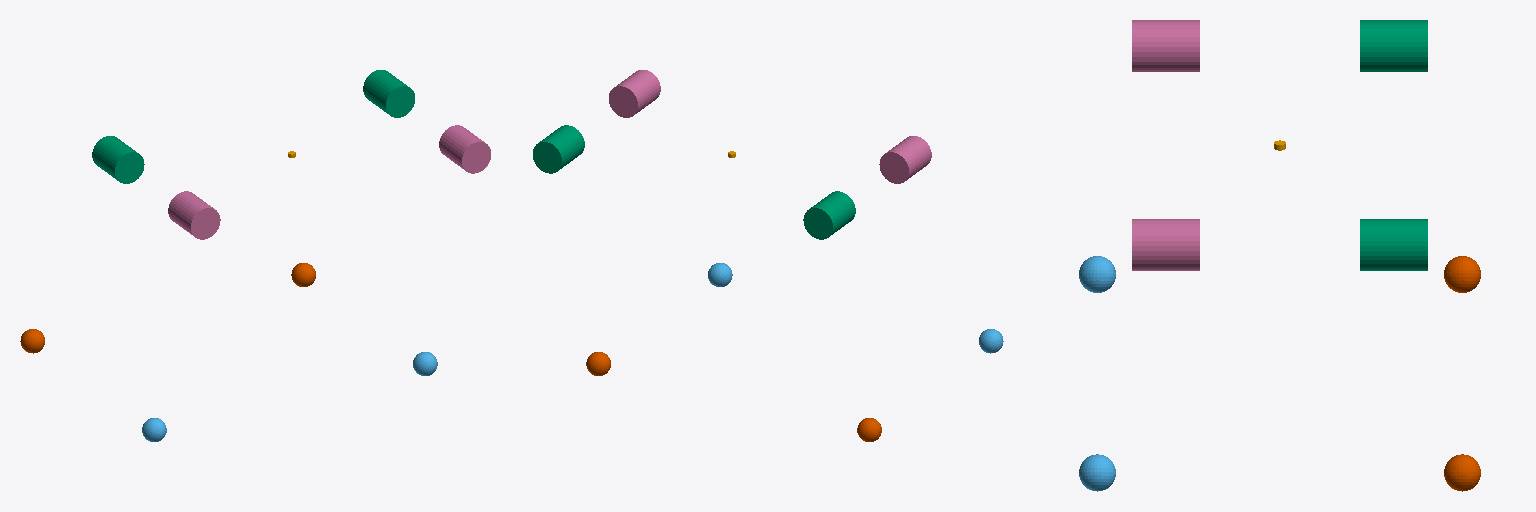
URDF robot description (hyq):
<?xml version="1.0" ?>
<!-- =================================================================================== -->
<!-- |    This document was autogenerated by xacro from hyqreal2_model_ordered.urdf.xacro | -->
<!-- |    EDITING THIS FILE BY HAND IS NOT RECOMMENDED                                 | -->
<!-- =================================================================================== -->
<robot name="hyq" xmlns:xacro="http://ros.org/wiki/xacro">

  <!-- Floating-base Joint -->
  <joint name="floating_base" type="floating">
    <origin rpy="0 0 0" xyz="0 0 0"/>
    <parent link="base_link"/>
    <child link="trunk"/>
  </joint>
  <!-- Links -->
  <!-- Footprint link -->
  <link name="base_link">
    <visual>
      <geometry>
        <cylinder length="0.01" radius="0.01"/>
      </geometry>
    </visual>
  </link>
  <!-- Trunk link -->
  <link name="trunk">
    <inertial>
      <origin xyz="0.0015 0.0019 -0.0014"/>
      <mass value="58.2907"/>
      <inertia ixx="1.0102" ixy="-0.0001" ixz="-0.0025" iyy="4.1869" iyz="-0.0044" izz="4.2882"/>
    </inertial>
    <visual>
      <origin rpy="0 0 3.14159265359" xyz="0 0 0"/>
      <geometry>
        <mesh filename="[local-path]/gturrisi/dls_ws_home/dls1/prova/src/hyqreal2_description/meshes/trunk/torso.stl" scale="0.001 0.001 0.001"/>
      </geometry>
    </visual>
    <collision>
      <origin rpy="0 0 3.14159265359" xyz="0 0 0"/>
      <geometry>
        <mesh filename="[local-path]/gturrisi/dls_ws_home/dls1/prova/src/hyqreal2_description/meshes/trunk/torso.stl" scale="0.001 0.001 0.001"/>
      </geometry>
    </collision>
  </link>

  <!-- Joints -->
  <!-- HAA joint -->
  <joint name="01_lf_haa_joint" type="revolute">
    <origin rpy="3.14159265359 1.57079632679 0" xyz="0.4042 0.1505 0"/>
    <parent link="trunk"/>
    <child link="01_lf_hipassembly"/>
    <axis xyz="0 0 1"/>
    <dynamics damping="0.1" friction="0"/>
    <limit effort="150.0" lower="-0.733038285838" upper="0.401425727959" velocity="12.0"/>
    <safety_controller k_position="50" k_velocity="10" soft_lower_limit="-0.733038285838" soft_upper_limit="0.401425727959"/>
  </joint>
  <!-- <xacro:property name="upper_leg_mesh_file"
                    value="${'[local-path]/gturrisi/dls_ws_home/dls1/prova/src/hyqreal2_description/meshes/leg/upper_leg_visual.stl'
                            if reflect_left == 1
                            else '[local-path]/gturrisi/dls_ws_home/dls1/prova/src/hyqreal2_description/meshes/leg/upper_leg_visual_mirrored.stl'}"/> -->
  <!-- HFE joint -->
  <joint name="01_lf_hfe_joint" type="revolute">
    <origin rpy="1.57079632679 0 0" xyz="0 -0.1636 0"/>
    <parent link="01_lf_hipassembly"/>
    <child link="01_lf_upperleg"/>
    <axis xyz="0 0 1"/>
    <dynamics damping="0.1" friction="0"/>
    <limit effort="250" lower="0.261799387799" upper="2.18166156499" velocity="12.0"/>
    <safety_controller k_position="50" k_velocity="10" soft_lower_limit="0.261799387799" soft_upper_limit="2.18166156499"/>
  </joint>
  <!-- KFE joint -->
  <joint name="01_lf_kfe_joint" type="revolute">
    <origin rpy="0 0 0" xyz="0.418 0 0"/>
    <parent link="01_lf_upperleg"/>
    <child link="01_lf_lowerleg"/>
    <axis xyz="0 0 1"/>
    <dynamics damping="0.1" friction="0"/>
    <limit effort="350" lower="-2.77001205584" upper="-0.669857366915" velocity="12.0"/>
    <safety_controller k_position="50.0" k_velocity="10.0" soft_lower_limit="-2.77001205584" soft_upper_limit="-0.669857366915"/>
  </joint>
  <!-- Foot joint -->
  <joint name="01_lf_foot_joint" type="fixed">
    <origin rpy="1.57079632679 0 -1.57079632679" xyz="0.43 0 0"/>
    <parent link="01_lf_lowerleg"/>
    <child link="01_lf_foot"/>
  </joint>
  <!-- Links -->
  <!-- Hip assembly link -->
  <link name="01_lf_hipassembly">
    <inertial>
      <origin xyz="-0.0291805 -0.0025707 0.0009034"/>
      <mass value="2.0709"/>
      <inertia ixx="0.0051712468" ixy="0.0002049916" ixz="0.0001047604" iyy="0.0048889341" iyz="4.6072e-05" izz="0.0049651854"/>
    </inertial>
    <visual>
      <origin rpy="0 -1.57079632679 -1.57079632679" xyz="0 -0.046 0"/>
      <geometry>
        <cylinder length="0.117" radius="0.0444"/>
      </geometry>
    </visual>
  </link>
  <!-- Upper leg link -->
  <link name="01_lf_upperleg">
    <inertial>
      <origin xyz="0.0659 0.0099 -0.0426"/>
      <mass value="4.0374"/>
      <inertia ixx="0.0162" ixy="0.0048" ixz="0.0112" iyy="0.0826" iyz="0.0012" izz="0.0791"/>
    </inertial>
    <visual>
      <origin rpy="0.0 0 0" xyz="0 0 0"/>
      <geometry>
        <mesh filename="[local-path]/gturrisi/dls_ws_home/dls1/prova/src/hyqreal2_description/meshes/leg/upper_leg_visual.stl" scale="0.001 0.001 0.001"/>
      </geometry>
    </visual>
    <collision>
      <origin rpy="0.0 0 0" xyz="0 0 0"/>
      <geometry>
        <mesh filename="[local-path]/gturrisi/dls_ws_home/dls1/prova/src/hyqreal2_description/meshes/leg/upper_leg_visual.stl" scale="0.001 0.001 0.001"/>
      </geometry>
    </collision>
  </link>
  <!-- Lower leg link -->
  <link name="01_lf_lowerleg">
    <inertial>
      <origin xyz="0.2561 -0.0111 2.8686e-05"/>
      <mass value="1.2253"/>
      <inertia ixx="0.0011" ixy="0.0011" ixz="-1.0812e-05" iyy="0.0436" iyz="2.31e-07" izz="0.0445"/>
    </inertial>
    <visual>
      <origin rpy="0 0 0" xyz="0 0 0"/>
      <geometry>
        <mesh filename="[local-path]/gturrisi/dls_ws_home/dls1/prova/src/hyqreal2_description/meshes/leg/lower_leg_visual.stl" scale="0.001 0.001 0.001"/>
      </geometry>
      <material name="white"/>
    </visual>
    <collision>
      <origin rpy="0 0 0" xyz="0 0 0"/>
      <geometry>
        <mesh filename="[local-path]/gturrisi/dls_ws_home/dls1/prova/src/hyqreal2_description/meshes/leg/lower_leg_visual.stl" scale="0.001 0.001 0.001"/>
      </geometry>
    </collision>
  </link>
  <!-- Foot link -->
  <link name="01_lf_foot">
    <visual>
      <origin rpy="0.0 0.0 0.0" xyz="0.0 0.0 0.0"/>
      <geometry>
        <sphere radius="0.032"/>
      </geometry>
      <material name="black"/>
    </visual>
    <collision>
      <origin rpy="0 0 0" xyz="0 0 0"/>
      <geometry>
        <sphere radius="0.032"/>
      </geometry>
    </collision>
  </link>



  <!-- Joints -->
  <!-- HAA joint -->
  <joint name="02_rf_haa_joint" type="revolute">
    <origin rpy="0 1.57079632679 0" xyz="0.4042 -0.1505 0"/>
    <parent link="trunk"/>
    <child link="02_rf_hipassembly"/>
    <axis xyz="0 0 1"/>
    <dynamics damping="0.1" friction="0"/>
    <limit effort="150.0" lower="-0.733038285838" upper="0.401425727959" velocity="12.0"/>
    <safety_controller k_position="50" k_velocity="10" soft_lower_limit="-0.733038285838" soft_upper_limit="0.401425727959"/>
  </joint>
  <!-- <xacro:property name="upper_leg_mesh_file"
                    value="${'[local-path]/gturrisi/dls_ws_home/dls1/prova/src/hyqreal2_description/meshes/leg/upper_leg_visual.stl'
                            if reflect_left == 1
                            else '[local-path]/gturrisi/dls_ws_home/dls1/prova/src/hyqreal2_description/meshes/leg/upper_leg_visual_mirrored.stl'}"/> -->
  <!-- HFE joint -->
  <joint name="02_rf_hfe_joint" type="revolute">
    <origin rpy="-1.57079632679 0 0" xyz="0 -0.1636 0"/>
    <parent link="02_rf_hipassembly"/>
    <child link="02_rf_upperleg"/>
    <axis xyz="0 0 1"/>
    <dynamics damping="0.1" friction="0"/>
    <limit effort="250" lower="0.261799387799" upper="2.18166156499" velocity="12.0"/>
    <safety_controller k_position="50" k_velocity="10" soft_lower_limit="0.261799387799" soft_upper_limit="2.18166156499"/>
  </joint>
  <!-- KFE joint -->
  <joint name="02_rf_kfe_joint" type="revolute">
    <origin rpy="0 0 0" xyz="0.418 0 0"/>
    <parent link="02_rf_upperleg"/>
    <child link="02_rf_lowerleg"/>
    <axis xyz="0 0 1"/>
    <dynamics damping="0.1" friction="0"/>
    <limit effort="350" lower="-2.77001205584" upper="-0.669857366915" velocity="12.0"/>
    <safety_controller k_position="50.0" k_velocity="10.0" soft_lower_limit="-2.77001205584" soft_upper_limit="-0.669857366915"/>
  </joint>
  <!-- Foot joint -->
  <joint name="02_rf_foot_joint" type="fixed">
    <origin rpy="1.57079632679 0 -1.57079632679" xyz="0.43 0 0"/>
    <parent link="02_rf_lowerleg"/>
    <child link="02_rf_foot"/>
  </joint>
  <!-- Links -->
  <!-- Hip assembly link -->
  <link name="02_rf_hipassembly">
    <inertial>
      <origin xyz="-0.0291805 -0.0025707 0.0009034"/>
      <mass value="2.0709"/>
      <inertia ixx="0.0051712468" ixy="0.0002049916" ixz="0.0001047604" iyy="0.0048889341" iyz="4.6072e-05" izz="0.0049651854"/>
    </inertial>
    <visual>
      <origin rpy="0 -1.57079632679 -1.57079632679" xyz="0 -0.046 0"/>
      <geometry>
        <cylinder length="0.117" radius="0.0444"/>
      </geometry>
    </visual>
  </link>
  <!-- Upper leg link -->
  <link name="02_rf_upperleg">
    <inertial>
      <origin xyz="0.0659 0.0099 0.0426"/>
      <mass value="4.0374"/>
      <inertia ixx="0.0162" ixy="0.0048" ixz="-0.0112" iyy="0.0826" iyz="-0.0012" izz="0.0791"/>
    </inertial>
    <visual>
      <origin rpy="-3.14159265359 0 0" xyz="0 0 0"/>
      <geometry>
        <mesh filename="[local-path]/gturrisi/dls_ws_home/dls1/prova/src/hyqreal2_description/meshes/leg/upper_leg_visual_mirrored.stl" scale="0.001 0.001 0.001"/>
      </geometry>
    </visual>
    <collision>
      <origin rpy="-3.14159265359 0 0" xyz="0 0 0"/>
      <geometry>
        <mesh filename="[local-path]/gturrisi/dls_ws_home/dls1/prova/src/hyqreal2_description/meshes/leg/upper_leg_visual_mirrored.stl" scale="0.001 0.001 0.001"/>
      </geometry>
    </collision>
  </link>
  <!-- Lower leg link -->
  <link name="02_rf_lowerleg">
    <inertial>
      <origin xyz="0.2561 -0.0111 2.8686e-05"/>
      <mass value="1.2253"/>
      <inertia ixx="0.0011" ixy="0.0011" ixz="-1.0812e-05" iyy="0.0436" iyz="2.31e-07" izz="0.0445"/>
    </inertial>
    <visual>
      <origin rpy="0 0 0" xyz="0 0 0"/>
      <geometry>
        <mesh filename="[local-path]/gturrisi/dls_ws_home/dls1/prova/src/hyqreal2_description/meshes/leg/lower_leg_visual.stl" scale="0.001 0.001 0.001"/>
      </geometry>
      <material name="white"/>
    </visual>
    <collision>
      <origin rpy="0 0 0" xyz="0 0 0"/>
      <geometry>
        <mesh filename="[local-path]/gturrisi/dls_ws_home/dls1/prova/src/hyqreal2_description/meshes/leg/lower_leg_visual.stl" scale="0.001 0.001 0.001"/>
      </geometry>
    </collision>
  </link>
  <!-- Foot link -->
  <link name="02_rf_foot">
    <visual>
      <origin rpy="0.0 0.0 0.0" xyz="0.0 0.0 0.0"/>
      <geometry>
        <sphere radius="0.032"/>
      </geometry>
      <material name="black"/>
    </visual>
    <collision>
      <origin rpy="0 0 0" xyz="0 0 0"/>
      <geometry>
        <sphere radius="0.032"/>
      </geometry>
    </collision>
  </link>


  <!-- Joints -->
  <!-- HAA joint -->
  <joint name="03_lh_haa_joint" type="revolute">
    <origin rpy="3.14159265359 1.57079632679 0" xyz="-0.4042 0.1505 0"/>
    <parent link="trunk"/>
    <child link="03_lh_hipassembly"/>
    <axis xyz="0 0 1"/>
    <dynamics damping="0.1" friction="0"/>
    <limit effort="150.0" lower="-0.733038285838" upper="0.401425727959" velocity="12.0"/>
    <safety_controller k_position="50" k_velocity="10" soft_lower_limit="-0.733038285838" soft_upper_limit="0.401425727959"/>
  </joint>
  <!-- <xacro:property name="upper_leg_mesh_file"
                    value="${'[local-path]/gturrisi/dls_ws_home/dls1/prova/src/hyqreal2_description/meshes/leg/upper_leg_visual.stl'
                            if reflect_left == 1
                            else '[local-path]/gturrisi/dls_ws_home/dls1/prova/src/hyqreal2_description/meshes/leg/upper_leg_visual_mirrored.stl'}"/> -->
  <!-- HFE joint -->
  <joint name="03_lh_hfe_joint" type="revolute">
    <origin rpy="1.57079632679 0 0" xyz="0 -0.1636 0"/>
    <parent link="03_lh_hipassembly"/>
    <child link="03_lh_upperleg"/>
    <axis xyz="0 0 1"/>
    <dynamics damping="0.1" friction="0"/>
    <limit effort="250" lower="0.261799387799" upper="2.18166156499" velocity="12.0"/>
    <safety_controller k_position="50" k_velocity="10" soft_lower_limit="0.261799387799" soft_upper_limit="2.18166156499"/>
  </joint>
  <!-- KFE joint -->
  <joint name="03_lh_kfe_joint" type="revolute">
    <origin rpy="0 0 0" xyz="0.418 0 0"/>
    <parent link="03_lh_upperleg"/>
    <child link="03_lh_lowerleg"/>
    <axis xyz="0 0 1"/>
    <dynamics damping="0.1" friction="0"/>
    <limit effort="350" lower="-2.77001205584" upper="-0.669857366915" velocity="12.0"/>
    <safety_controller k_position="50.0" k_velocity="10.0" soft_lower_limit="-2.77001205584" soft_upper_limit="-0.669857366915"/>
  </joint>
  <!-- Foot joint -->
  <joint name="03_lh_foot_joint" type="fixed">
    <origin rpy="1.57079632679 0 -1.57079632679" xyz="0.43 0 0"/>
    <parent link="03_lh_lowerleg"/>
    <child link="03_lh_foot"/>
  </joint>
  <!-- Links -->
  <!-- Hip assembly link -->
  <link name="03_lh_hipassembly">
    <inertial>
      <origin xyz="-0.0291805 -0.0025707 0.0009034"/>
      <mass value="2.0709"/>
      <inertia ixx="0.0051712468" ixy="0.0002049916" ixz="0.0001047604" iyy="0.0048889341" iyz="4.6072e-05" izz="0.0049651854"/>
    </inertial>
    <visual>
      <origin rpy="0 -1.57079632679 -1.57079632679" xyz="0 -0.046 0"/>
      <geometry>
        <cylinder length="0.117" radius="0.0444"/>
      </geometry>
    </visual>
  </link>
  <!-- Upper leg link -->
  <link name="03_lh_upperleg">
    <inertial>
      <origin xyz="0.0659 0.0099 -0.0426"/>
      <mass value="4.0374"/>
      <inertia ixx="0.0162" ixy="0.0048" ixz="0.0112" iyy="0.0826" iyz="0.0012" izz="0.0791"/>
    </inertial>
    <visual>
      <origin rpy="0.0 0 0" xyz="0 0 0"/>
      <geometry>
        <mesh filename="[local-path]/gturrisi/dls_ws_home/dls1/prova/src/hyqreal2_description/meshes/leg/upper_leg_visual.stl" scale="0.001 0.001 0.001"/>
      </geometry>
    </visual>
    <collision>
      <origin rpy="0.0 0 0" xyz="0 0 0"/>
      <geometry>
        <mesh filename="[local-path]/gturrisi/dls_ws_home/dls1/prova/src/hyqreal2_description/meshes/leg/upper_leg_visual.stl" scale="0.001 0.001 0.001"/>
      </geometry>
    </collision>
  </link>
  <!-- Lower leg link -->
  <link name="03_lh_lowerleg">
    <inertial>
      <origin xyz="0.2561 -0.0111 2.8686e-05"/>
      <mass value="1.2253"/>
      <inertia ixx="0.0011" ixy="0.0011" ixz="-1.0812e-05" iyy="0.0436" iyz="2.31e-07" izz="0.0445"/>
    </inertial>
    <visual>
      <origin rpy="0 0 0" xyz="0 0 0"/>
      <geometry>
        <mesh filename="[local-path]/gturrisi/dls_ws_home/dls1/prova/src/hyqreal2_description/meshes/leg/lower_leg_visual.stl" scale="0.001 0.001 0.001"/>
      </geometry>
      <material name="white"/>
    </visual>
    <collision>
      <origin rpy="0 0 0" xyz="0 0 0"/>
      <geometry>
        <mesh filename="[local-path]/gturrisi/dls_ws_home/dls1/prova/src/hyqreal2_description/meshes/leg/lower_leg_visual.stl" scale="0.001 0.001 0.001"/>
      </geometry>
    </collision>
  </link>
  <!-- Foot link -->
  <link name="03_lh_foot">
    <visual>
      <origin rpy="0.0 0.0 0.0" xyz="0.0 0.0 0.0"/>
      <geometry>
        <sphere radius="0.032"/>
      </geometry>
      <material name="black"/>
    </visual>
    <collision>
      <origin rpy="0 0 0" xyz="0 0 0"/>
      <geometry>
        <sphere radius="0.032"/>
      </geometry>
    </collision>
  </link>


  <!-- Joints -->
  <!-- HAA joint -->
  <joint name="04_rh_haa_joint" type="revolute">
    <origin rpy="0 1.57079632679 0" xyz="-0.4042 -0.1505 0"/>
    <parent link="trunk"/>
    <child link="04_rh_hipassembly"/>
    <axis xyz="0 0 1"/>
    <dynamics damping="0.1" friction="0"/>
    <limit effort="150.0" lower="-0.733038285838" upper="0.401425727959" velocity="12.0"/>
    <safety_controller k_position="50" k_velocity="10" soft_lower_limit="-0.733038285838" soft_upper_limit="0.401425727959"/>
  </joint>
  <!-- <xacro:property name="upper_leg_mesh_file"
                    value="${'[local-path]/gturrisi/dls_ws_home/dls1/prova/src/hyqreal2_description/meshes/leg/upper_leg_visual.stl'
                            if reflect_left == 1
                            else '[local-path]/gturrisi/dls_ws_home/dls1/prova/src/hyqreal2_description/meshes/leg/upper_leg_visual_mirrored.stl'}"/> -->
  <!-- HFE joint -->
  <joint name="04_rh_hfe_joint" type="revolute">
    <origin rpy="-1.57079632679 0 0" xyz="0 -0.1636 0"/>
    <parent link="04_rh_hipassembly"/>
    <child link="04_rh_upperleg"/>
    <axis xyz="0 0 1"/>
    <dynamics damping="0.1" friction="0"/>
    <limit effort="250" lower="0.261799387799" upper="2.18166156499" velocity="12.0"/>
    <safety_controller k_position="50" k_velocity="10" soft_lower_limit="0.261799387799" soft_upper_limit="2.18166156499"/>
  </joint>
  <!-- KFE joint -->
  <joint name="04_rh_kfe_joint" type="revolute">
    <origin rpy="0 0 0" xyz="0.418 0 0"/>
    <parent link="04_rh_upperleg"/>
    <child link="04_rh_lowerleg"/>
    <axis xyz="0 0 1"/>
    <dynamics damping="0.1" friction="0"/>
    <limit effort="350" lower="-2.77001205584" upper="-0.669857366915" velocity="12.0"/>
    <safety_controller k_position="50.0" k_velocity="10.0" soft_lower_limit="-2.77001205584" soft_upper_limit="-0.669857366915"/>
  </joint>
  <!-- Foot joint -->
  <joint name="04_rh_foot_joint" type="fixed">
    <origin rpy="1.57079632679 0 -1.57079632679" xyz="0.43 0 0"/>
    <parent link="04_rh_lowerleg"/>
    <child link="04_rh_foot"/>
  </joint>
  <!-- Links -->
  <!-- Hip assembly link -->
  <link name="04_rh_hipassembly">
    <inertial>
      <origin xyz="-0.0291805 -0.0025707 0.0009034"/>
      <mass value="2.0709"/>
      <inertia ixx="0.0051712468" ixy="0.0002049916" ixz="0.0001047604" iyy="0.0048889341" iyz="4.6072e-05" izz="0.0049651854"/>
    </inertial>
    <visual>
      <origin rpy="0 -1.57079632679 -1.57079632679" xyz="0 -0.046 0"/>
      <geometry>
        <cylinder length="0.117" radius="0.0444"/>
      </geometry>
    </visual>
  </link>
  <!-- Upper leg link -->
  <link name="04_rh_upperleg">
    <inertial>
      <origin xyz="0.0659 0.0099 0.0426"/>
      <mass value="4.0374"/>
      <inertia ixx="0.0162" ixy="0.0048" ixz="-0.0112" iyy="0.0826" iyz="-0.0012" izz="0.0791"/>
    </inertial>
    <visual>
      <origin rpy="-3.14159265359 0 0" xyz="0 0 0"/>
      <geometry>
        <mesh filename="[local-path]/gturrisi/dls_ws_home/dls1/prova/src/hyqreal2_description/meshes/leg/upper_leg_visual_mirrored.stl" scale="0.001 0.001 0.001"/>
      </geometry>
    </visual>
    <collision>
      <origin rpy="-3.14159265359 0 0" xyz="0 0 0"/>
      <geometry>
        <mesh filename="[local-path]/gturrisi/dls_ws_home/dls1/prova/src/hyqreal2_description/meshes/leg/upper_leg_visual_mirrored.stl" scale="0.001 0.001 0.001"/>
      </geometry>
    </collision>
  </link>
  <!-- Lower leg link -->
  <link name="04_rh_lowerleg">
    <inertial>
      <origin xyz="0.2561 -0.0111 2.8686e-05"/>
      <mass value="1.2253"/>
      <inertia ixx="0.0011" ixy="0.0011" ixz="-1.0812e-05" iyy="0.0436" iyz="2.31e-07" izz="0.0445"/>
    </inertial>
    <visual>
      <origin rpy="0 0 0" xyz="0 0 0"/>
      <geometry>
        <mesh filename="[local-path]/gturrisi/dls_ws_home/dls1/prova/src/hyqreal2_description/meshes/leg/lower_leg_visual.stl" scale="0.001 0.001 0.001"/>
      </geometry>
      <material name="white"/>
    </visual>
    <collision>
      <origin rpy="0 0 0" xyz="0 0 0"/>
      <geometry>
        <mesh filename="[local-path]/gturrisi/dls_ws_home/dls1/prova/src/hyqreal2_description/meshes/leg/lower_leg_visual.stl" scale="0.001 0.001 0.001"/>
      </geometry>
    </collision>
  </link>
  <!-- Foot link -->
  <link name="04_rh_foot">
    <visual>
      <origin rpy="0.0 0.0 0.0" xyz="0.0 0.0 0.0"/>
      <geometry>
        <sphere radius="0.032"/>
      </geometry>
      <material name="black"/>
    </visual>
    <collision>
      <origin rpy="0 0 0" xyz="0 0 0"/>
      <geometry>
        <sphere radius="0.032"/>
      </geometry>
    </collision>
  </link>

</robot>

--- What the picture shows (computed from the rendered views, not written in the file) ---
The picture shows the robot from 3 angles, left to right: view 1: azimuth 30°, elevation 25°; view 2: azimuth 150°, elevation 25°; view 3: azimuth 270°, elevation 25°; orthographic projection.
Robot: hyq — 18 links, 17 joints (12 revolute, 4 fixed, 1 floating); root link base_link; default pose: all joints at 0 but 8 set to mid-range because 0 is outside their limits (01_lf_hfe_joint = 1.22, 01_lf_kfe_joint = -1.72, 02_rf_hfe_joint = 1.22, 02_rf_kfe_joint = -1.72, 03_lh_hfe_joint = 1.22, 03_lh_kfe_joint = -1.72, +2 more).
Visible links, largest first — view 1: 02_rf_hipassembly, 04_rh_hipassembly, 03_lh_hipassembly, 01_lf_hipassembly; view 2: 01_lf_hipassembly, 03_lh_hipassembly, 04_rh_hipassembly, 02_rf_hipassembly; view 3: 01_lf_hipassembly, 02_rf_hipassembly, 03_lh_hipassembly, 04_rh_hipassembly, 03_lh_foot, 04_rh_foot, 01_lf_foot, 02_rf_foot.
Link boxes in pixels (box(x1,y1,x2,y2)): 02_rf_hipassembly: box(439, 125, 490, 173); 04_rh_hipassembly: box(168, 191, 220, 239); 03_lh_hipassembly: box(92, 136, 144, 183); 01_lf_hipassembly: box(363, 70, 414, 117); 01_lf_hipassembly: box(533, 125, 584, 173); 03_lh_hipassembly: box(803, 191, 855, 239); 04_rh_hipassembly: box(879, 136, 931, 183); 02_rf_hipassembly: box(609, 70, 660, 117); 01_lf_hipassembly: box(1360, 219, 1427, 270); 02_rf_hipassembly: box(1132, 219, 1199, 270); 03_lh_hipassembly: box(1360, 20, 1427, 71); 04_rh_hipassembly: box(1132, 20, 1199, 71); 03_lh_foot: box(1444, 256, 1480, 292); 04_rh_foot: box(1079, 256, 1115, 292); 01_lf_foot: box(1444, 454, 1480, 491); 02_rf_foot: box(1079, 454, 1115, 491).
Bounding box of the posed robot: 1.07 × 0.6922 × 0.597 m (x, y, z).
Geometry: only primitive shapes (box / cylinder / sphere) drawn; not drawn: 9 mesh visuals (reference in a form the renderer does not follow).
